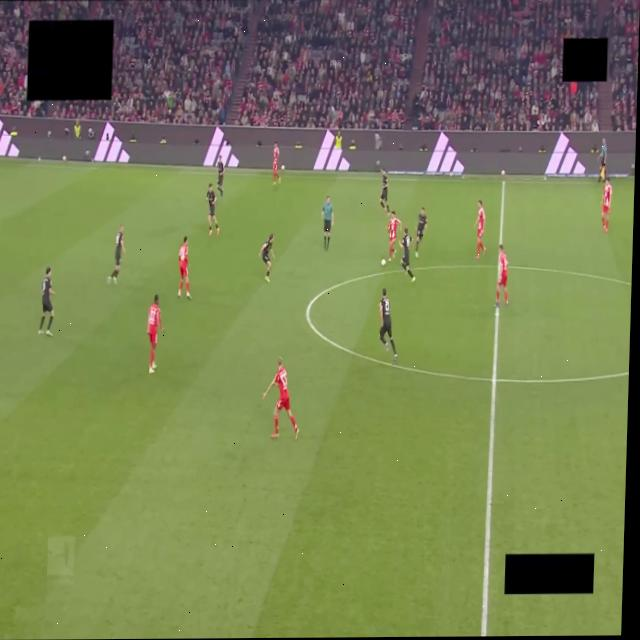ball: (381, 260, 385, 266)
player: (262, 358, 298, 438), (379, 288, 396, 361), (147, 295, 162, 374), (107, 225, 125, 284), (38, 267, 53, 336), (398, 227, 416, 283), (177, 237, 190, 299), (495, 244, 507, 307), (259, 233, 273, 282), (416, 207, 429, 258), (206, 183, 218, 236), (387, 212, 399, 261), (475, 200, 485, 258), (601, 178, 611, 232), (379, 168, 389, 215), (216, 155, 225, 197), (272, 143, 280, 184)
referee: (321, 197, 333, 250)
